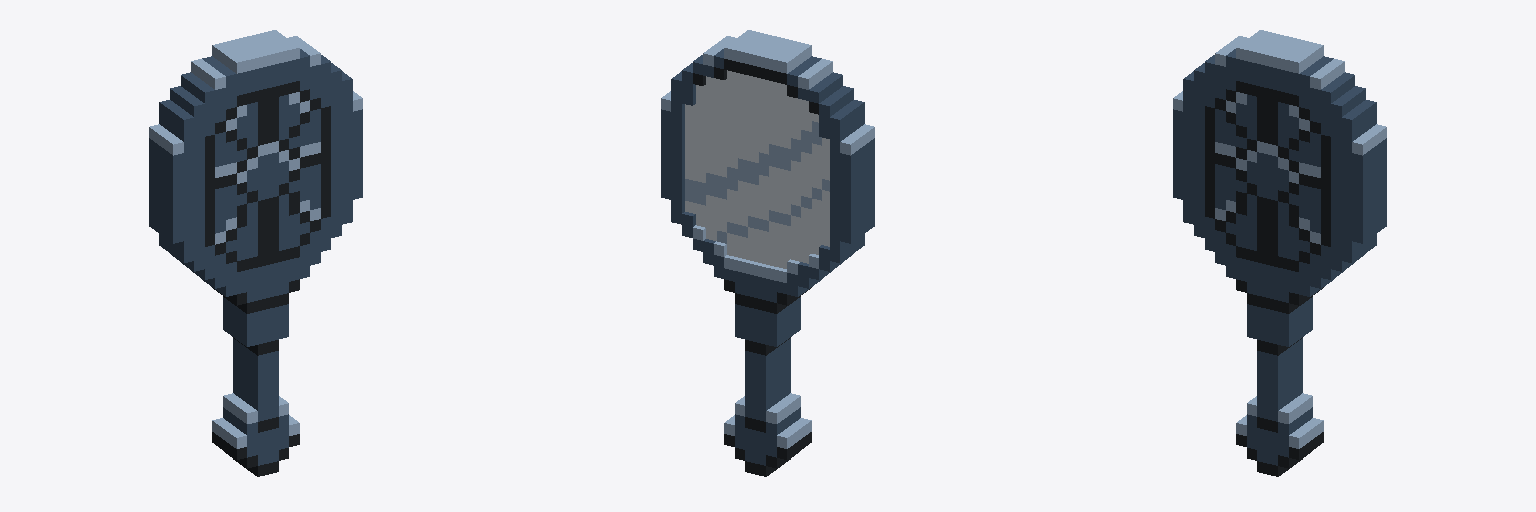
The model's file is HandMirror.obj.
The picture shows the model from 3 angles: view 1: azimuth 30°, elevation 25°; view 2: azimuth 150°, elevation 25°; view 3: azimuth 330°, elevation 25°; orthographic projection.
Bounding box in the file's own units: 18 × 38 × 4.